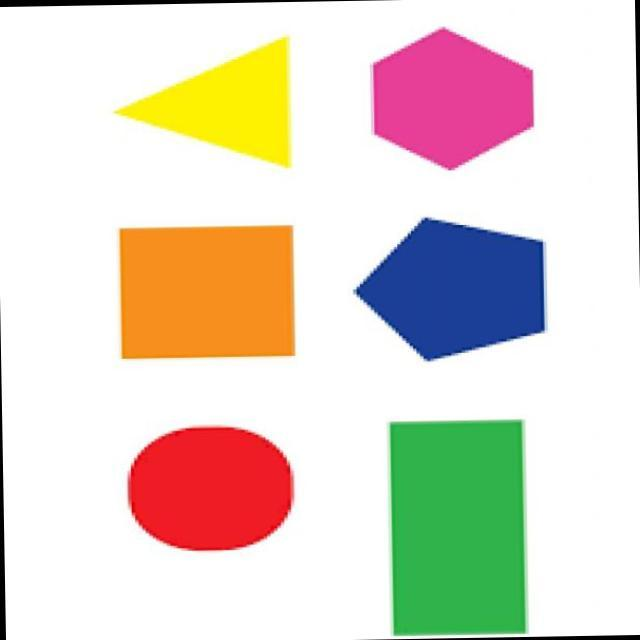circle: (116, 397, 307, 578)
square: (102, 219, 324, 379)
triangle: (89, 29, 319, 179)
